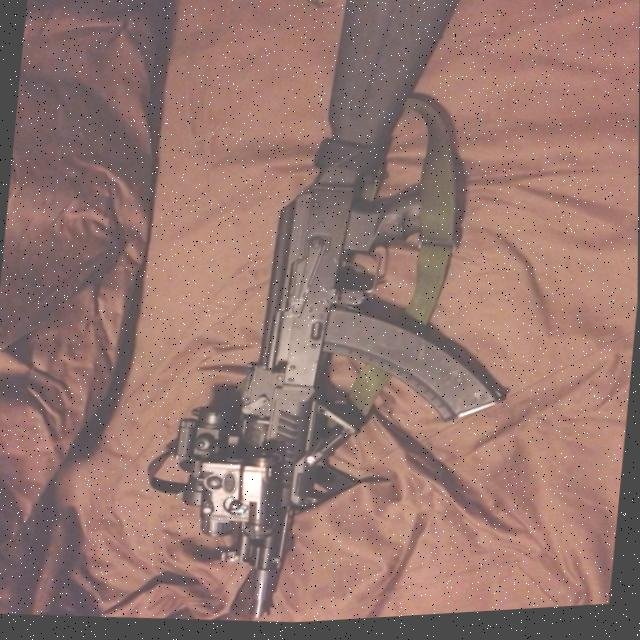firearm: (159, 0, 544, 632)
